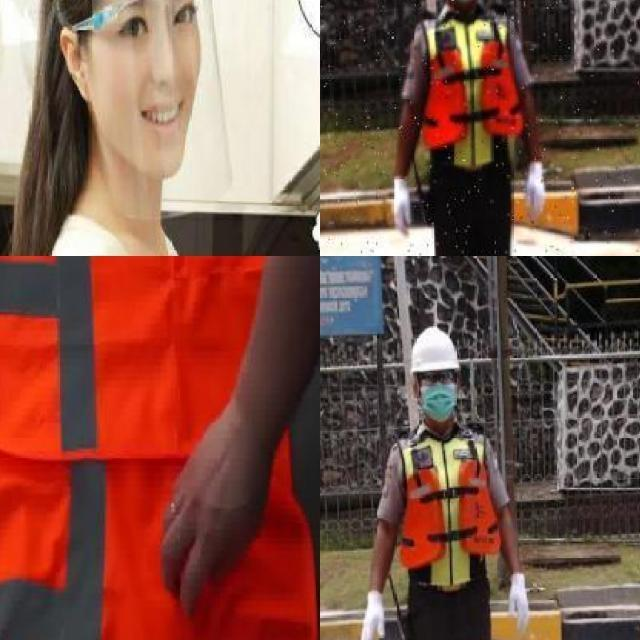apron: (504, 572, 532, 637), (390, 172, 416, 240), (523, 161, 546, 224), (358, 587, 385, 640)
